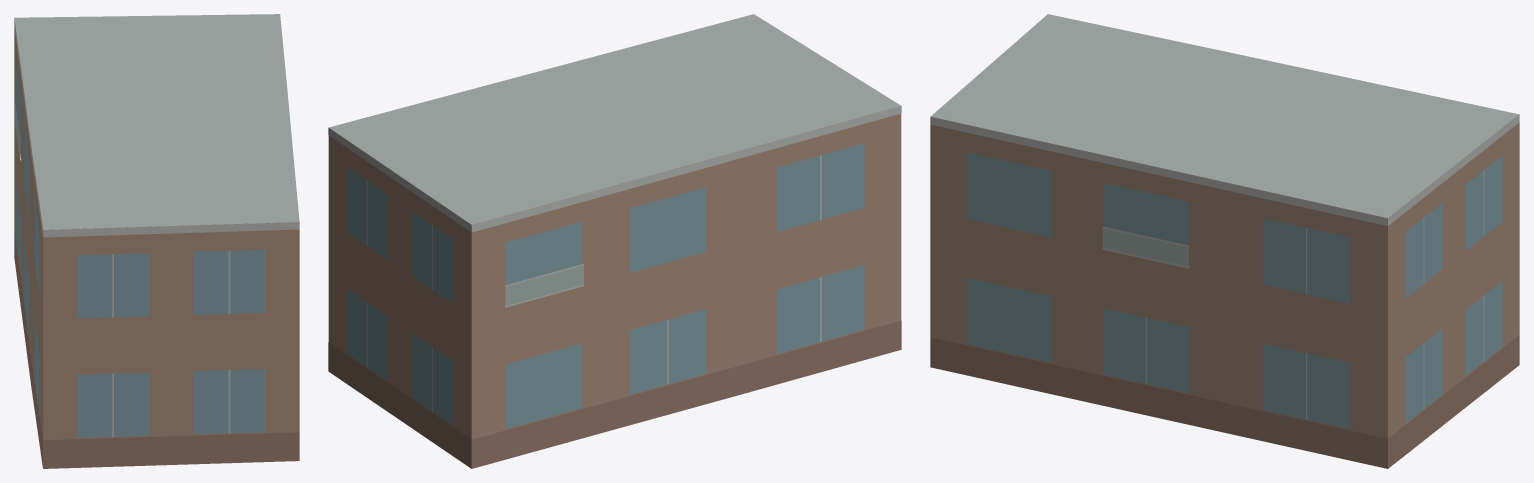
File: survey-upis-32633241.glb
3 renders of one model, left to right at view 1: azimuth 30°, elevation 25°; view 2: azimuth 150°, elevation 25°; view 3: azimuth 270°, elevation 25°, orthographic. The views are drawn at different scales.
Parts seen in each view (by area): view 1: survey-upis-32633241.tmp; view 2: survey-upis-32633241.tmp; view 3: survey-upis-32633241.tmp.
Boxes of the visible parts, x1=… form: survey-upis-32633241.tmp: x1=14, y1=14, x2=299, y2=468; survey-upis-32633241.tmp: x1=328, y1=14, x2=901, y2=468; survey-upis-32633241.tmp: x1=930, y1=14, x2=1519, y2=468.
Bounding box in the file's own units: 13.65 × 7.8 × 16.63.
